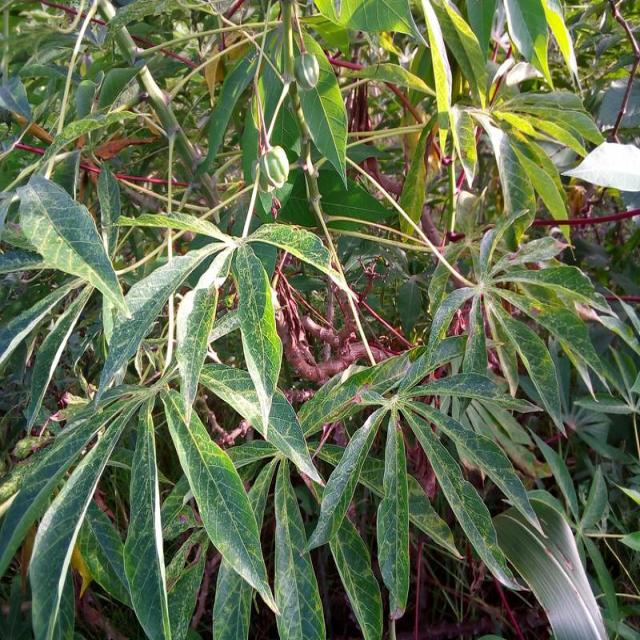cassava leaf: (2, 1, 638, 638), (18, 172, 132, 326)
